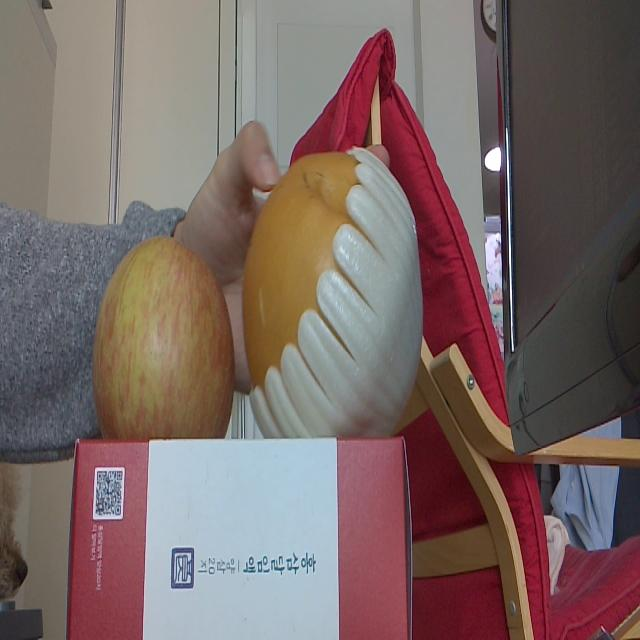apple: (91, 237, 235, 440)
pear: (242, 152, 426, 438)
